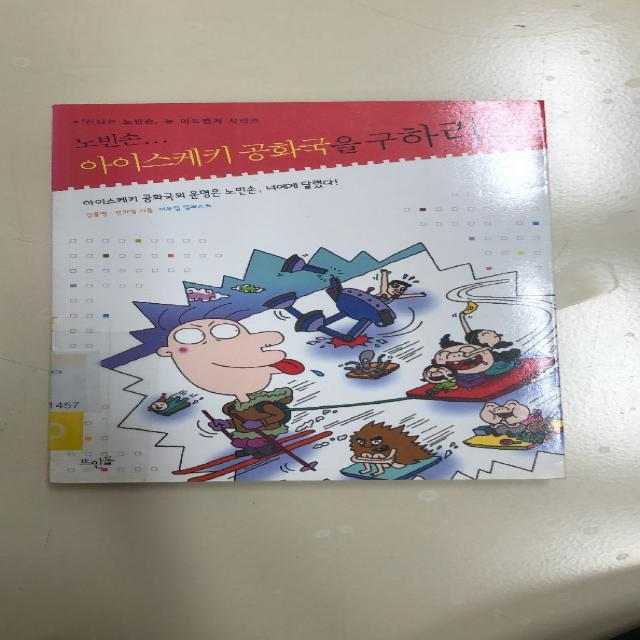Wornout: (521, 468, 571, 482)
